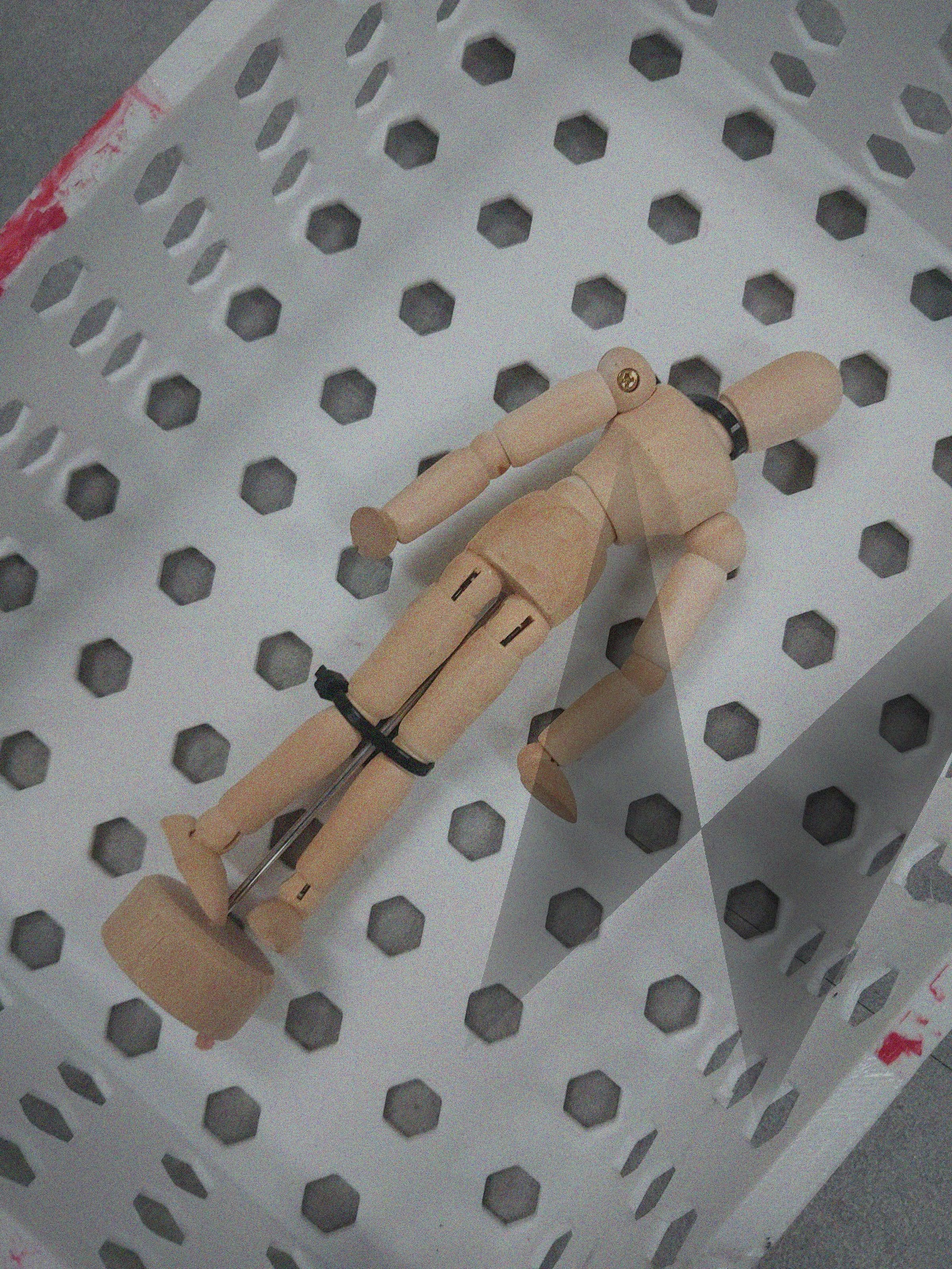mannequin: (90, 339, 853, 1056)
